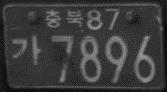6: (132, 35, 156, 84)
7: (49, 33, 74, 82), (104, 6, 119, 30)
8: (79, 35, 102, 83), (85, 8, 102, 30)
9: (104, 35, 128, 84)
가: (11, 35, 42, 66)
충북_O: (44, 8, 83, 29)
